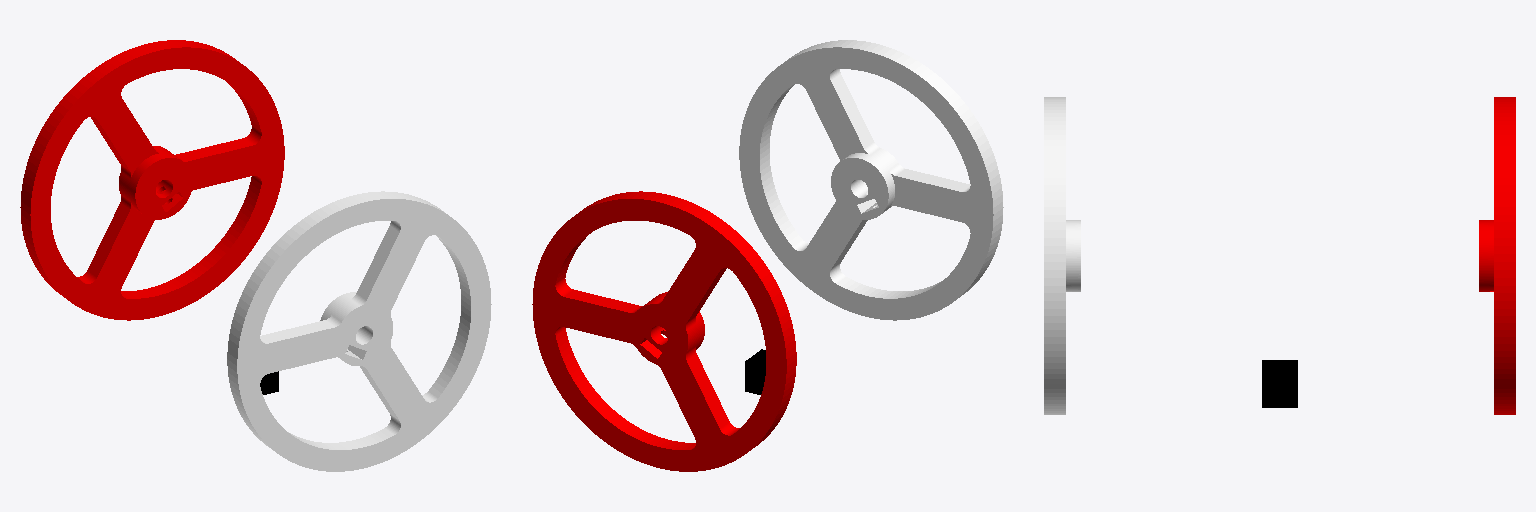
URDF robot description (Self_Balancing_Robot):
<?xml version="1.0"?>
<robot name="Self_Balancing_Robot">
  <!-- Chassis -->
  <link name="Chassis">
    <visual>
      <geometry>
        <mesh filename="meshes/Robot_V2.dae" />
      </geometry>
      <origin xyz="0 0 0.0" rpy="0 0 0"/> 
      <material name="ChassisMaterial">
        <color rgba="0.75 0.75 0.75 1"/>  <!-- Warna abu-abu untuk chassis -->
      </material>
    </visual>
    <collision>
      <geometry>
        <mesh filename="meshes/Robot_V2.dae" />
      </geometry>
      <origin xyz="0 0 0.0" rpy="0 0 0"/> 
    </collision>
    <inertial>
      <origin xyz="0 0 0.075" rpy="0 0 0"/>
      <mass value="0.500"/>
      <inertia ixx="0.0005208" ixy="0" ixz="0" iyy="0.0005208" iyz="0" izz="0.0002083"/>
    </inertial>
  </link>

  <!-- Left Wheel -->
  <link name="Left_Wheel">
    <visual>
      <geometry>
        <mesh filename="meshes/Robot_Wheel_Left.dae"  />
      </geometry>
      <origin xyz="0 0.0 -0.0445" rpy="0 0 0"/> 
      <material name="WheelMaterial">
        <color rgba="1 0 0 1"/>  <!-- Warna merah untuk roda Kiri -->
      </material>
    </visual>
    <collision>
      <geometry>
        <mesh filename="meshes/Robot_Wheel_Left.dae"  />
      </geometry>
      <origin xyz="0 0.0 -0.0445" rpy="0 0 0"/> 
    </collision>
    <inertial>
      <origin xyz="0 0.0 -0.0445" rpy="0 0 0"/>
      <mass value="0.015"/>
      <inertia 
      ixx="7.59e-6" ixy="0" ixz="0"
      iyy="1.52e-5" iyz="0"
      izz="7.59e-6"/>
    </inertial>
  </link>

  <!-- Right Wheel -->
  <link name="Right_Wheel">
    <visual>
      <geometry>
        <mesh filename="meshes/Robot_Wheel_Right.dae" />
      </geometry>
      <origin xyz="0 0.0 -0.0445" rpy="0 0 0"/>  
      <material name="Wheel_R_Material">
        <color rgba="1 1 1 1"/>  <!-- Warna putih untuk roda Kanan-->
      </material>
    </visual>
    <collision>
      <geometry>
        <mesh filename="meshes/Robot_Wheel_Right.dae" />
      </geometry>
      <origin xyz="0 0.0 -0.0445" rpy="0 0 0"/> 
    </collision>
    <inertial>
      <origin xyz="0 0.0 -0.0445" rpy="0 0 0"/>
      <mass value="0.015"/>
      <inertia 
      ixx="7.59e-6" ixy="0" ixz="0"
      iyy="1.52e-5" iyz="0"
      izz="7.59e-6"/>
    </inertial>
  </link>

  <!-- Left Wheel Joint -->
  <joint name="left_wheel_joint" type="continuous">
    <parent link="Chassis"/>
    <child link="Left_Wheel"/>
    <origin xyz="0.0 0.0 0.0445" rpy="0 0 0"/>
    <limit effort="0.05" velocity="250"/> <!--effort = force-->
    <axis xyz="0 1 0"/>
    
  </joint>

  <!-- Right Wheel Joint -->
  <joint name="right_wheel_joint" type="continuous">
    <parent link="Chassis"/>
    <child link="Right_Wheel"/>
    <origin xyz="0.0 0.0 0.0445" rpy="0 0 0"/>
    <limit effort="0.05" velocity="250"/> <!--effort = force-->
    <axis xyz="0 1 0"/>
    
  </joint>


  <link name="line_sensor_link">
    <visual>
      <origin xyz="0 0 0" rpy="0 0 0 "/>
      <geometry>
        <box size="0.01 0.01 0.01"/>
      </geometry>
      <material name="black">
        <color rgba="0 0 0 1"/>
      </material>
    </visual>
    <collision>
      <origin xyz="0 0 0" rpy="0 0 0 "/>
      <geometry>
        <box size="0.01 0.01 0.01"/>
      </geometry>
    </collision>
    <inertial>
        <origin xyz="0 0 0" rpy="0 0 0" />
        <mass value="0.0001" />
        <inertia ixx="0.0000" 
            ixy="0"  ixz="0"
            iyx="0"  iyy="0.0000" 
            iyz="0"
            izx="0"  izy="0"  izz="0.0000" />
    </inertial>
  </link>

  <joint name="line_sensor_joint" type="fixed">
    <parent link="Chassis"/>
    <child link="line_sensor_link"/>
    <origin xyz="0.0 0.0 0.005" rpy="0 0 0"/>
    <axis xyz="0 0 1"/>
  </joint>

  <link name="line_target_position_virtual_link">
        <inertial>
        <origin xyz="0 0 0" rpy="0 0 0" />
        <mass value="0.0001" />
        <inertia ixx="0.0000" 
            ixy="0"  ixz="0"
            iyx="0"  iyy="0.0000" 
            iyz="0"
            izx="0"  izy="0"  izz="0.0000" />
    </inertial>
  </link>

  <joint name="line_sensor_target_joint" type="fixed">
    <parent link="line_sensor_link"/>
    <child link="line_target_position_virtual_link"/>
    <origin xyz="0.0 0.0 -0.001" rpy="0 0 0"/>
    <axis xyz="0 0 1"/>
  </joint>
  
</robot>

--- Facts derived from the render (not from the file) ---
3 views of the same robot in one strip: view 1: azimuth 30°, elevation 25°; view 2: azimuth 150°, elevation 25°; view 3: azimuth 270°, elevation 25° (orthographic).
Robot: Self_Balancing_Robot — 5 links, 4 joints (2 continuous, 2 fixed); root link Chassis; default pose: all joints at 0.
Visible links, largest first — view 1: Left_Wheel, Right_Wheel; view 2: Right_Wheel, Left_Wheel, line_sensor_link; view 3: Left_Wheel, Right_Wheel, line_sensor_link.
Link boxes in pixels (left/top/right/bottom): Left_Wheel: left=20, top=40, right=284, bottom=320; Right_Wheel: left=227, top=191, right=491, bottom=471; Right_Wheel: left=739, top=40, right=1003, bottom=320; Left_Wheel: left=532, top=191, right=796, bottom=471; line_sensor_link: left=745, top=349, right=765, bottom=394; Left_Wheel: left=1479, top=97, right=1515, bottom=414; Right_Wheel: left=1044, top=97, right=1080, bottom=414; line_sensor_link: left=1262, top=360, right=1297, bottom=407.
Bounding box of the posed robot: 0.088 × 0.13 × 0.088 m (x, y, z).
Meshes: 3 distinct files referenced, 2 mesh visuals loaded (2 Collada DAE); not drawn: 1 (reference not matched to a file when rendering).
